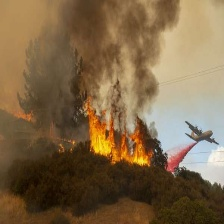fire: (83, 107, 153, 168), (52, 134, 78, 153), (14, 107, 34, 122)
smoke: (2, 1, 178, 120), (163, 142, 196, 177)
